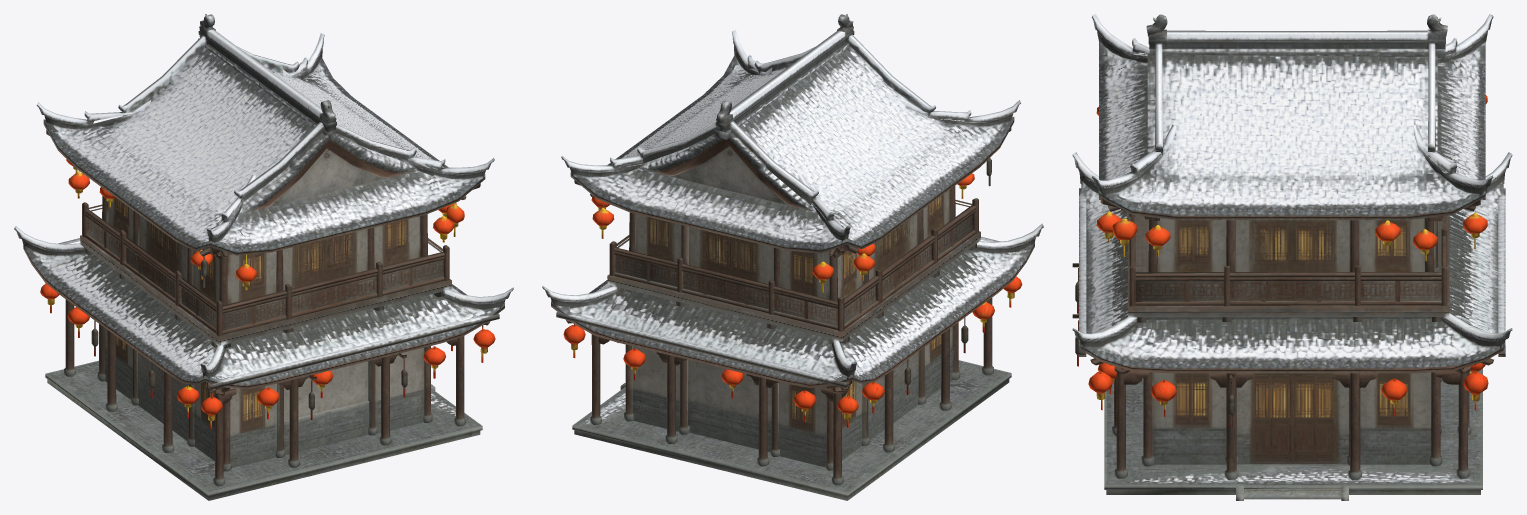
File: snow-gate.glb
3 views of the same model, side by side, from view 1: azimuth 30°, elevation 25°; view 2: azimuth 150°, elevation 25°; view 3: azimuth 270°, elevation 25° (orthographic). The views are drawn at different scales.
Parts seen in each view (by area): view 1: tripo_5c6f4fbe_fc62_4946_adbf_763b833143e0; view 2: tripo_5c6f4fbe_fc62_4946_adbf_763b833143e0; view 3: tripo_5c6f4fbe_fc62_4946_adbf_763b833143e0.
Part boxes in pixels (x1,y1,x2,y2): tripo_5c6f4fbe_fc62_4946_adbf_763b833143e0: (14, 14, 513, 500); tripo_5c6f4fbe_fc62_4946_adbf_763b833143e0: (542, 14, 1043, 500); tripo_5c6f4fbe_fc62_4946_adbf_763b833143e0: (1072, 14, 1512, 500).
Size of the model in its own units: 0.9458 by 0.9995 by 0.9858.
1 material, 1 textured.
